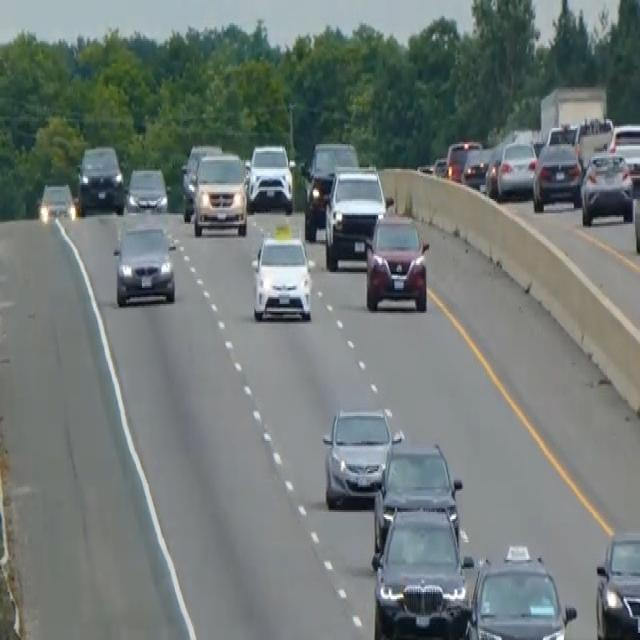car: (371, 503, 472, 638), (372, 436, 463, 558), (464, 542, 576, 638), (321, 404, 400, 508), (323, 162, 390, 270), (363, 210, 429, 313), (249, 224, 314, 324), (300, 139, 359, 240), (112, 217, 177, 307), (594, 528, 639, 638), (531, 126, 582, 212), (580, 149, 633, 226), (244, 140, 294, 213), (180, 140, 222, 220), (496, 139, 537, 197), (571, 114, 614, 165), (125, 164, 168, 214), (606, 121, 639, 183), (37, 180, 76, 224), (445, 137, 481, 183), (462, 142, 496, 190), (632, 178, 639, 254)
jeep: (76, 142, 125, 215)
minivan: (191, 150, 248, 238)
